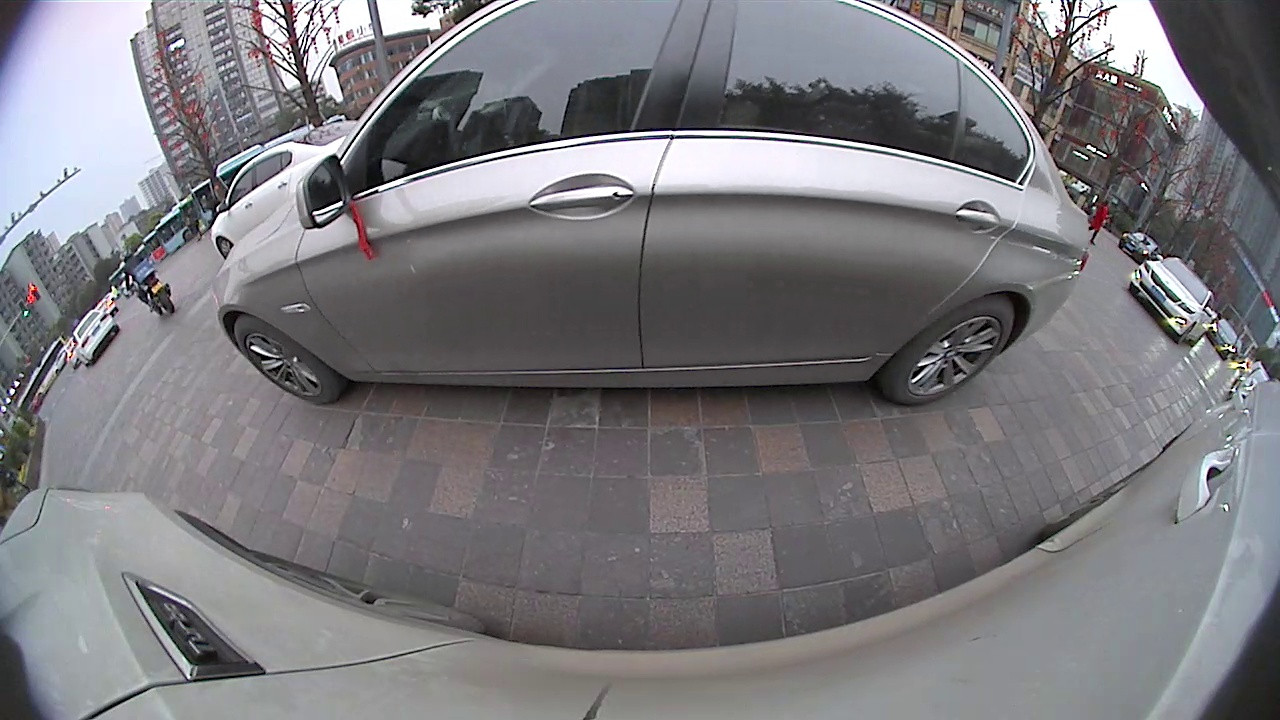car: (211, 1, 1091, 408), (211, 135, 363, 263), (1128, 255, 1216, 348), (71, 308, 120, 366), (1205, 317, 1241, 358), (1118, 230, 1160, 261)
front: (230, 312, 346, 408)
person: (1094, 200, 1112, 247)
rear: (888, 295, 1017, 407)
rider: (120, 252, 177, 317)
